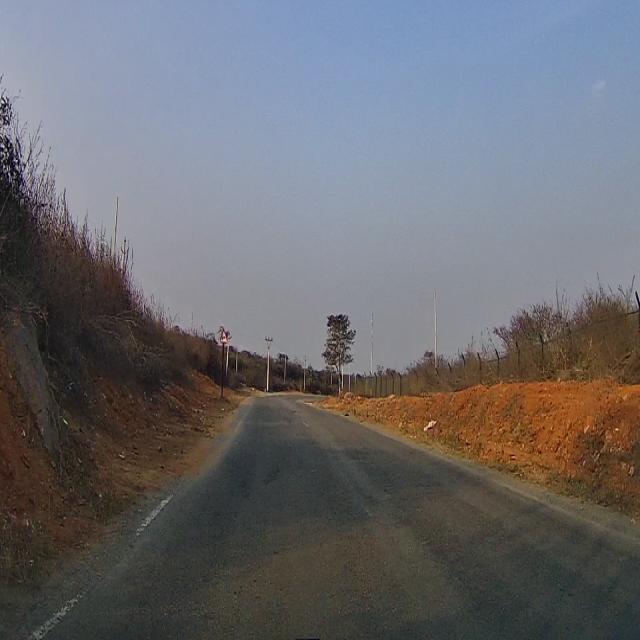right-hand-curve: (220, 326, 228, 343)
